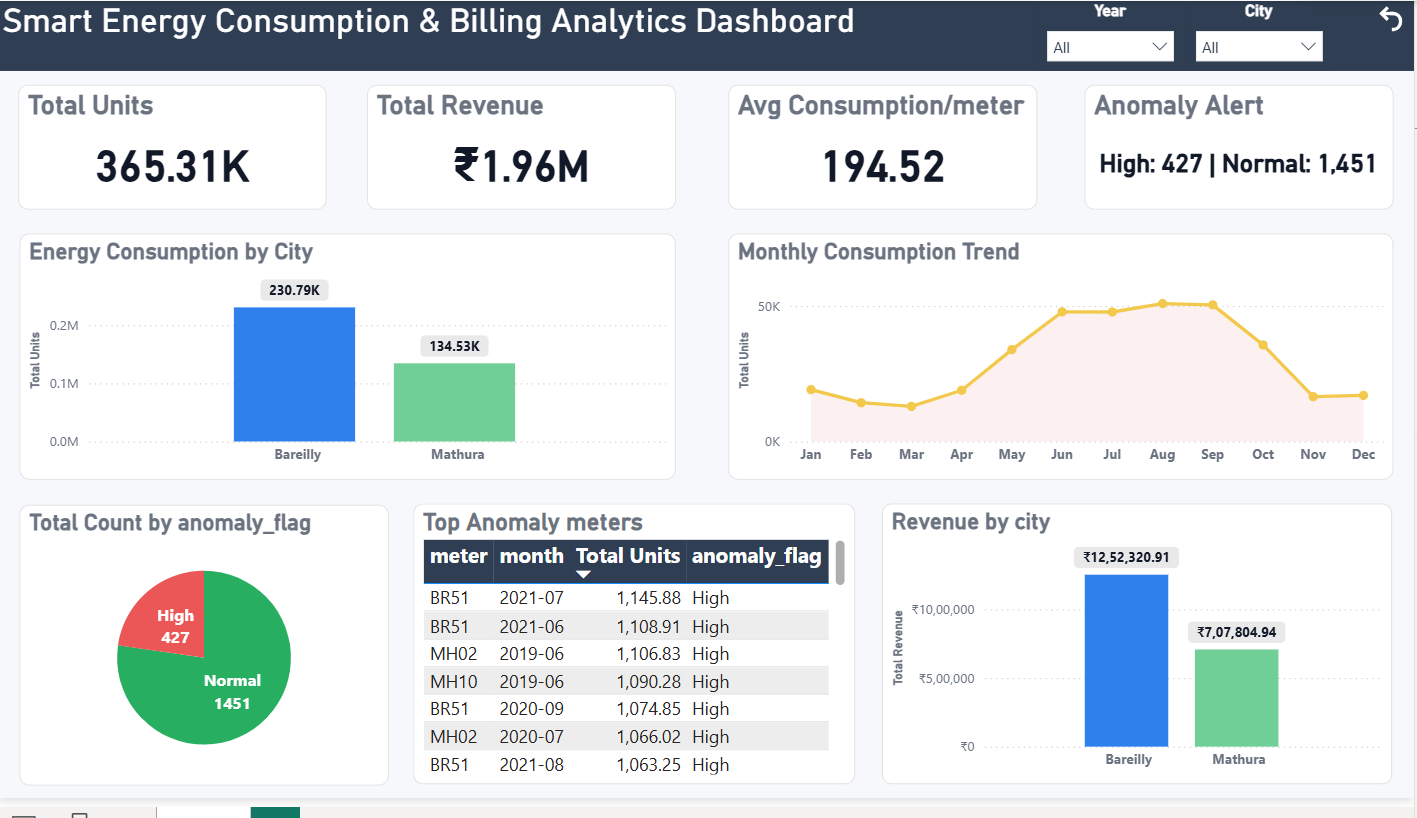

Layout of this report page (visuals, bound fields, positions):
{"tool":"powerbi","page":{"name":"Page 1","canvas":[1280,720],"ordinal":0},"visuals":[{"type":"textbox","title":"Smart Energy Consumption & Billing Analytics Dashboard","box":[0,0,1280.3,63.1],"z":0},{"type":"card","title":"Total Units ","fields":{"Values":["energy_db monthly_energy_data.Total Units"]},"box":[19.2,75.5,278.6,112.5],"z":1000},{"type":"card","title":"Total Revenue ","fields":{"Values":["energy_db monthly_energy_data.Total Revenue"]},"box":[333.7,75.6,279.1,112.8],"z":2000},{"type":"card","title":"Avg Consumption/meter","fields":{"Values":["energy_db monthly_energy_data.Avg Consumption"]},"box":[660.5,75.6,279.1,112.8],"z":3000},{"type":"card","title":"Anomaly Alert","fields":{"Values":["energy_db monthly_energy_data.Anomaly Alerts"]},"box":[982.6,75.6,279.1,112.8],"z":4000},{"type":"clusteredColumnChart","title":"Energy Consumption by City","fields":{"Category":["energy_db monthly_energy_data.city"],"Y":["energy_db monthly_energy_data.Total Units"]},"box":[19.8,210.5,593,222.1],"z":5000},{"type":"lineChart","title":"Monthly Consumption Trend","fields":{"Category":["energy_db monthly_energy_data.Month Name"],"Y":["energy_db monthly_energy_data.Total Units"]},"box":[660.5,210.5,601.2,222.1],"z":6000},{"type":"pieChart","fields":{"Category":["energy_db monthly_energy_data.anomaly_flag"],"Y":["energy_db monthly_energy_data.Total Count"]},"box":[19.8,454.7,333.7,253.5],"z":7000},{"type":"tableEx","title":"Top Anomaly meters","fields":{"Values":["energy_db monthly_energy_data.meter","energy_db monthly_energy_data.month","energy_db monthly_energy_data.Total Units","energy_db monthly_energy_data.anomaly_flag"]},"box":[376,454.2,399.3,253.9],"z":8000},{"type":"clusteredColumnChart","title":"Revenue by city","fields":{"Category":["energy_db monthly_energy_data.city"],"Y":["energy_db monthly_energy_data.Total Revenue"]},"box":[800,454.2,461.1,253.9],"z":9000},{"type":"slicer","title":"City","fields":{"Values":["energy_db monthly_energy_data.city"]},"box":[1073.1,0,134.5,63.1],"z":10000},{"type":"slicer","title":"Year","fields":{"Values":["energy_db monthly_energy_data.Year"]},"box":[938.6,0,134.5,63.1],"z":11000},{"type":"actionButton","box":[1238.7,0,41.8,31.6],"z":12000}]}

Visuals, with their boxes in screenshot pixels (x1, y1, x2, y2), scaled from the page's 1280x720 canvas onto the 1417x818 screenshot:
"Smart Energy Consumption & Billing Analytics Dashboard" textbox: 0, 0, 1416, 72
"Total Units " card: 21, 86, 330, 214
"Total Revenue " card: 369, 86, 678, 214
"Avg Consumption/meter" card: 731, 86, 1040, 214
"Anomaly Alert" card: 1088, 86, 1397, 214
"Energy Consumption by City" clusteredColumnChart: 22, 239, 678, 491
"Monthly Consumption Trend" lineChart: 731, 239, 1397, 491
pieChart - energy_db monthly_energy_data.anomaly_flag x energy_db monthly_energy_data.Total Count: 22, 517, 391, 805
"Top Anomaly meters" tableEx: 416, 516, 858, 804
"Revenue by city" clusteredColumnChart: 886, 516, 1396, 804
"City" slicer: 1188, 0, 1337, 72
"Year" slicer: 1039, 0, 1188, 72
actionButton: 1371, 0, 1416, 36
